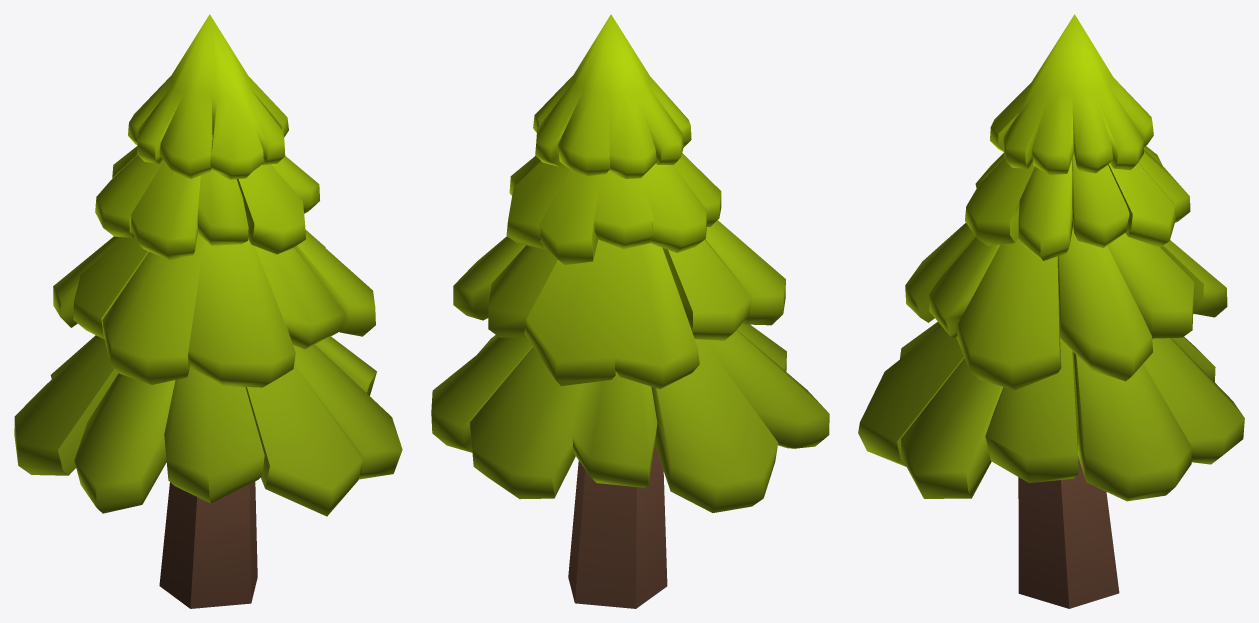
File: Tree3.fbx
3 renders of one model, left to right at view 1: azimuth 30°, elevation 25°; view 2: azimuth 150°, elevation 25°; view 3: azimuth 270°, elevation 25°, orthographic.
Parts seen in each view (by area): view 1: Tree3; view 2: Tree3; view 3: Tree3.
Boxes of the visible parts, x1,y1,x2,y2 form: Tree3: (14, 14, 402, 608); Tree3: (431, 14, 829, 608); Tree3: (858, 14, 1244, 608).
Bounding box in the file's own units: 637 × 1087 × 665.
